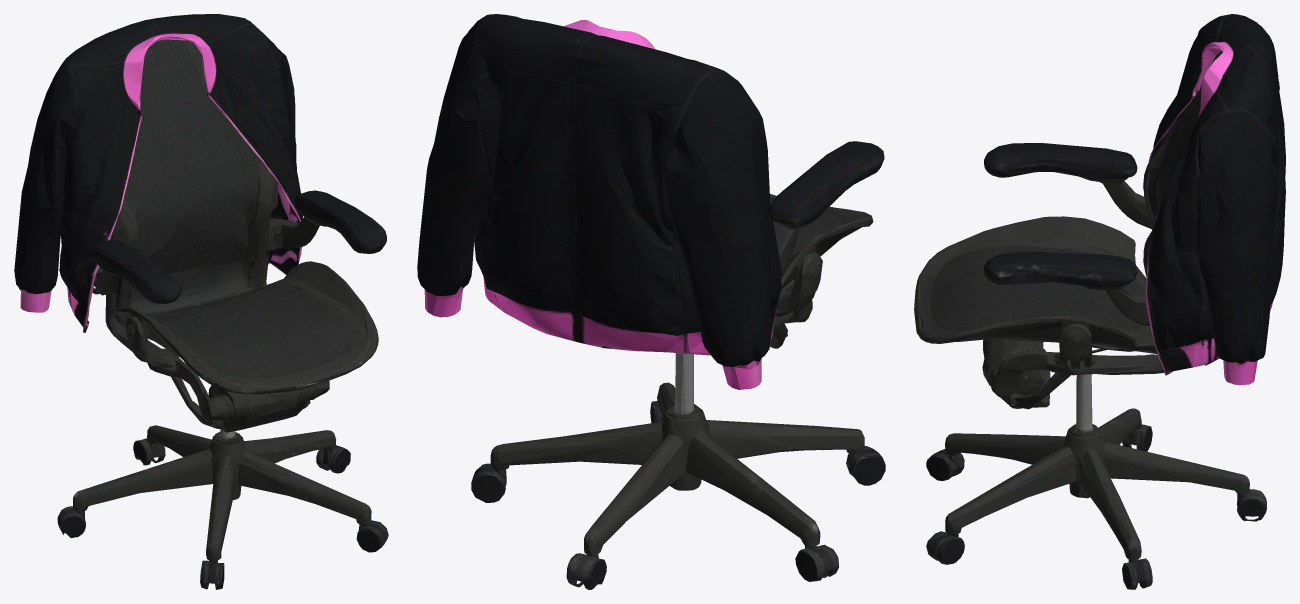
The model's file is milked-office-chair.glb.
3 views of the same model, side by side, from view 1: azimuth 30°, elevation 25°; view 2: azimuth 150°, elevation 25°; view 3: azimuth 270°, elevation 25° (orthographic). The views are drawn at different scales.
Visible parts, largest first — view 1: output_unwrapped; view 2: output_unwrapped; view 3: output_unwrapped.
Boxes of the visible parts, x1=… form: output_unwrapped: x1=14, y1=14, x2=388, y2=589; output_unwrapped: x1=417, y1=14, x2=885, y2=589; output_unwrapped: x1=914, y1=14, x2=1285, y2=589.
Size of the model in its own units: 1.31 by 1.9 by 1.35.
Materials: 1 (1 with a texture image).
